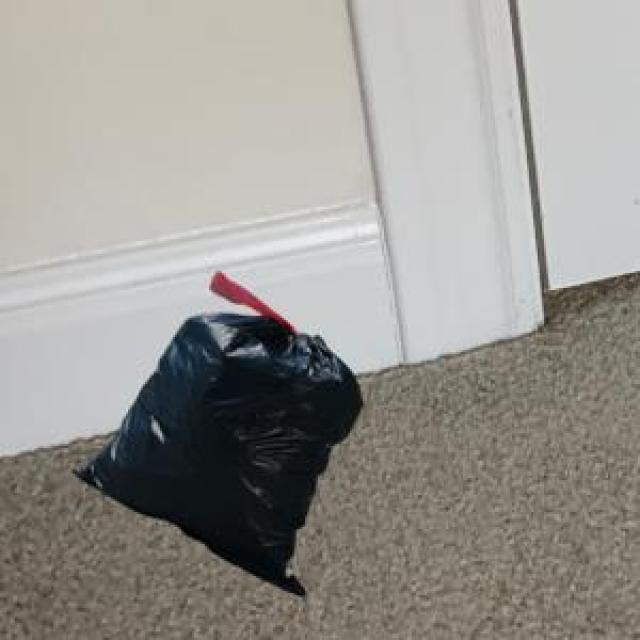garbage_bag: (70, 275, 364, 595)
